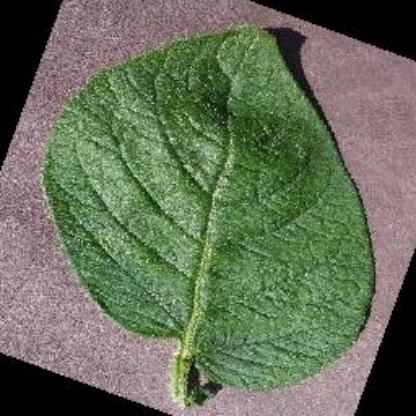Healthy-plant: (38, 21, 384, 406)
